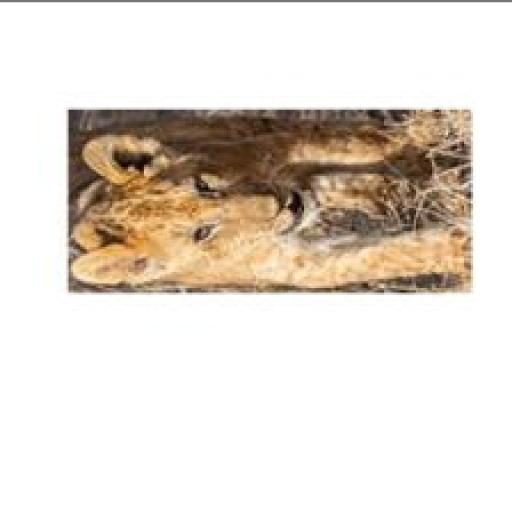lion: (66, 126, 497, 292)
